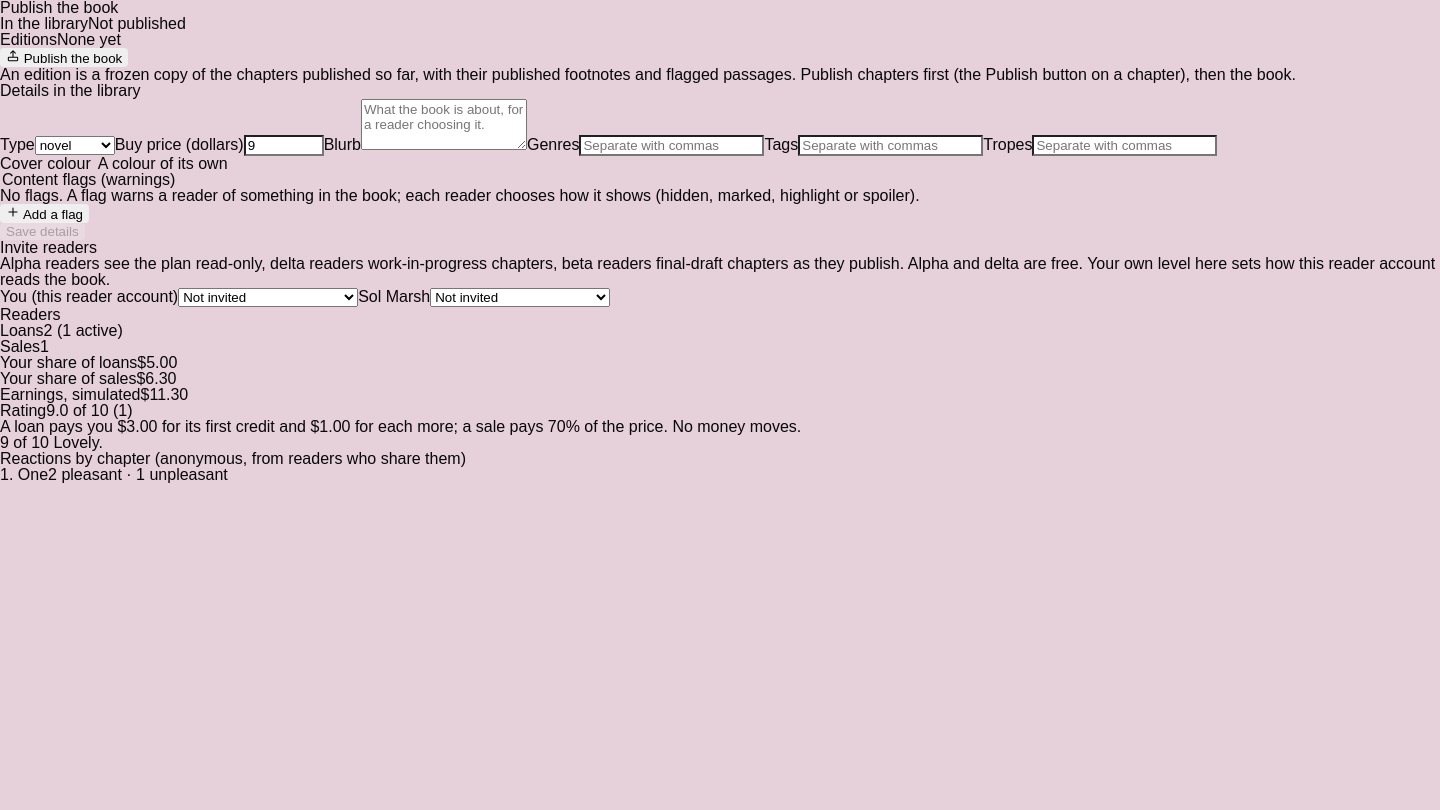
Test: the Book level's Publish tab › says the book is not published, and publishes edition 1 after asking
The width and height of the screenshot is (1440, 810).
Expected: the text "Not published" is shown, left=88, top=15, right=186, bottom=32
Click the button with aria-label "Publish book": (64, 58) left=0, top=48, right=128, bottom=67
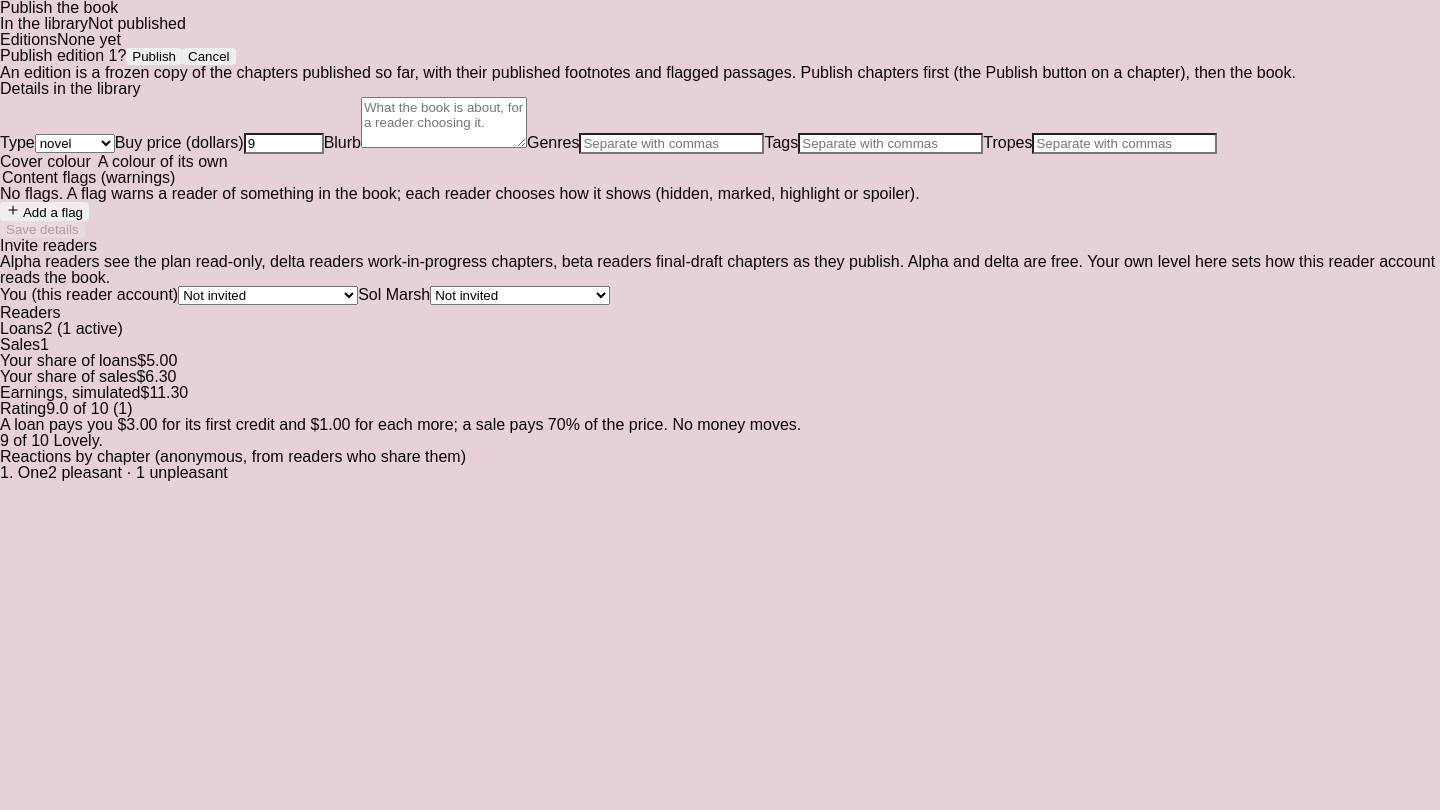
Now the text "Publish edition 1?" is shown, box left=0, top=47, right=126, bottom=64
Click the button "Publish": (154, 56) left=126, top=48, right=182, bottom=65
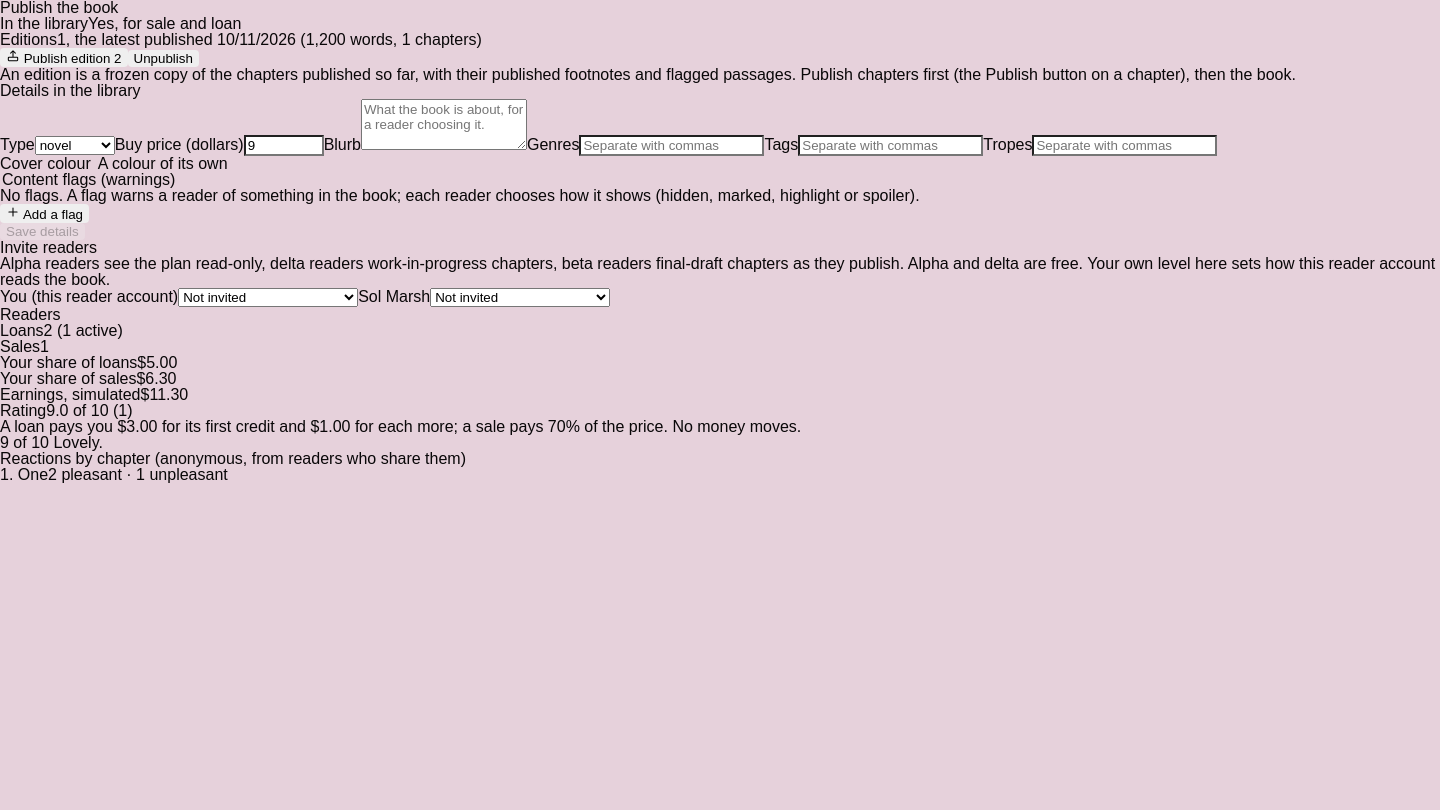
Now the text "Yes, for sale and loan" is shown, box left=88, top=15, right=241, bottom=32
Now the button with aria-label "Publish book" reads "Publish edition 2", box left=0, top=48, right=128, bottom=67
